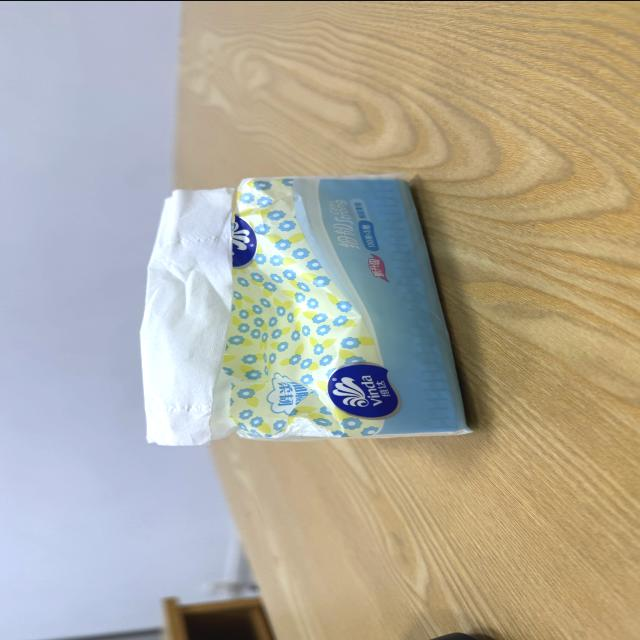tissue: (143, 175, 468, 443)
